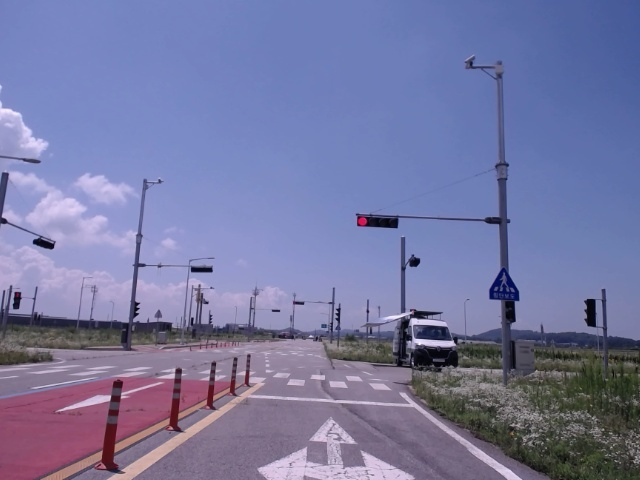red_4: (357, 216, 398, 228)
